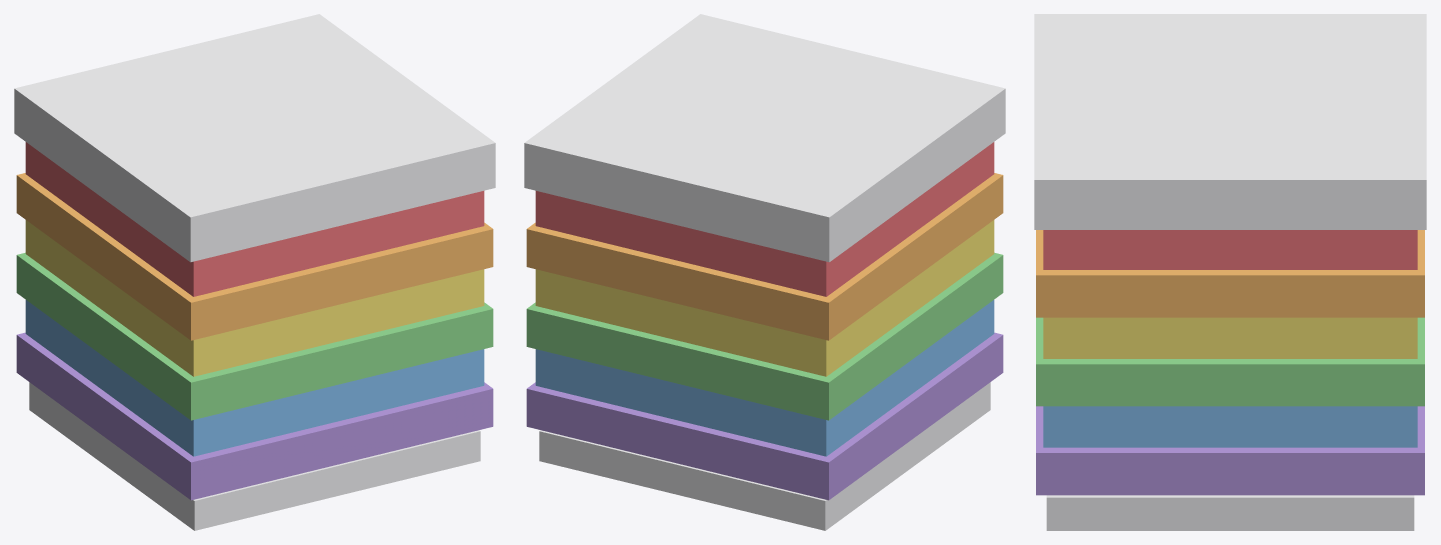
File: polainas_arco_iris.glb
3 renders of one model, left to right at view 1: azimuth 30°, elevation 25°; view 2: azimuth 150°, elevation 25°; view 3: azimuth 270°, elevation 25°, orthographic. The views are drawn at different scales.
Visible parts, largest first — view 1: polainas_arco_iris; view 2: polainas_arco_iris; view 3: polainas_arco_iris.
Part boxes in pixels (x1=…): polainas_arco_iris: x1=14, y1=14, x2=495, y2=530; polainas_arco_iris: x1=524, y1=14, x2=1005, y2=530; polainas_arco_iris: x1=1034, y1=14, x2=1426, y2=530.
Size of the model in its own units: 0.32 by 0.3205 by 0.32.
